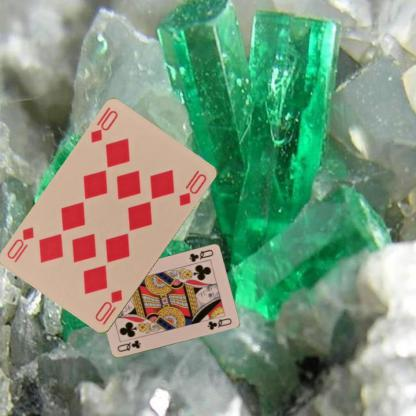10d: (88, 104, 120, 144), (92, 287, 124, 324)
Qc: (186, 247, 214, 264), (115, 337, 142, 353)
